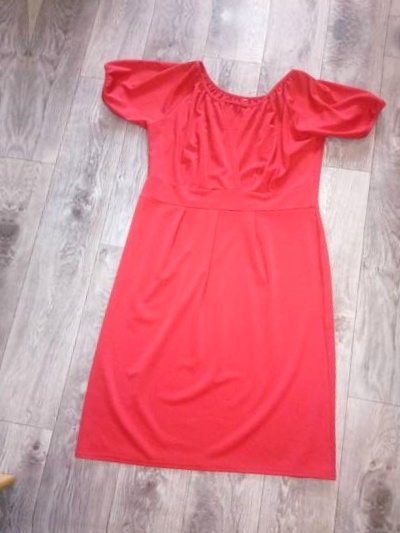Dress: (35, 23, 400, 503), (96, 0, 400, 15)
